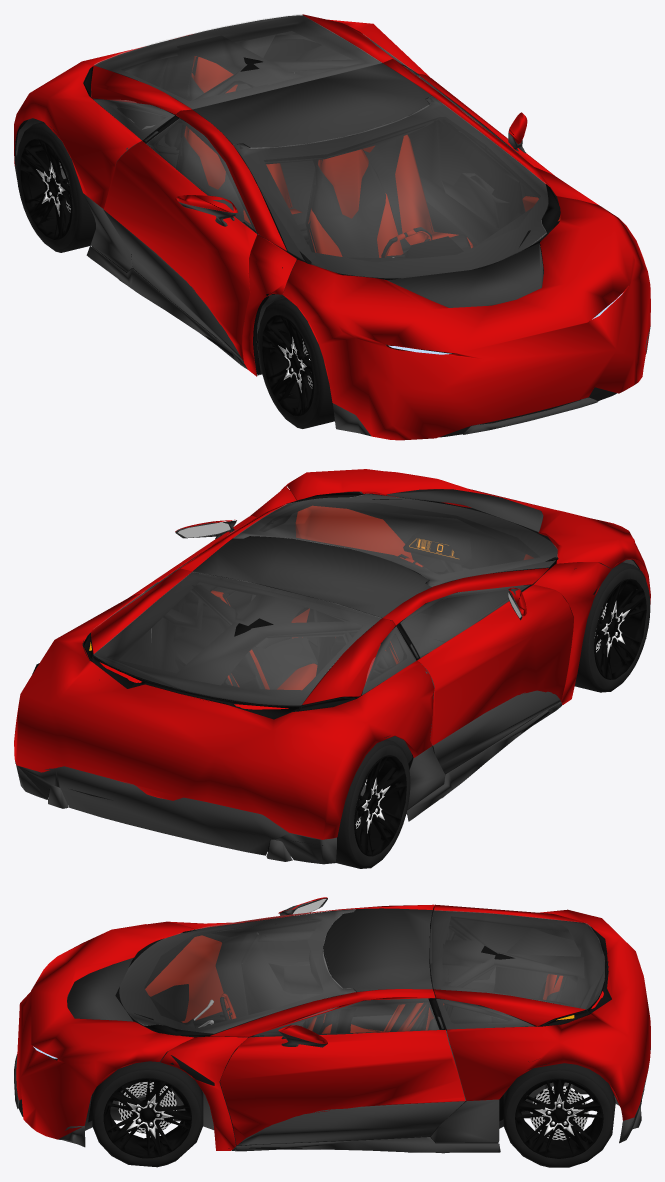
File: concept-lo.glb
3 renders of one model, top to bottom at view 1: azimuth 30°, elevation 25°; view 2: azimuth 150°, elevation 25°; view 3: azimuth 270°, elevation 25°, orthographic. The views are drawn at different scales.
Visible parts, largest first — view 1: object 11, object 2, object 3, object 10, object 4, object 5, object 7, WheelRearRRim, WheelFrontRRim, WheelFrontRTire2, WheelRearRTire2, object 6 (+2 smaller); view 2: object 11, object 2, object 10, object 3, object 4, object 5, WheelRearRRim, WheelFrontRRim, WheelFrontRTire2, WheelRearRTire2, object 7, object 8 (+3 smaller); view 3: object 11, object 2, object 10, object 3, object 4, object 5, WheelRearLRim, object 6, WheelFrontLRim, WheelFrontLTire2, WheelRearLTire2, object 1 (+4 smaller).
Part boxes in pixels (<box>): object 11: <box>14,14,650,440</box>; object 2: <box>94,14,547,277</box>; object 3: <box>16,15,616,437</box>; object 10: <box>14,63,650,436</box>; object 4: <box>14,28,525,353</box>; object 5: <box>184,56,560,351</box>; object 7: <box>179,75,470,257</box>; WheelRearRRim: <box>20,138,72,239</box>; WheelFrontRRim: <box>262,315,314,416</box>; WheelFrontRTire2: <box>258,298,334,428</box>; WheelRearRTire2: <box>16,122,95,252</box>; object 6: <box>92,170,556,373</box>; object 11: <box>14,469,650,839</box>; object 2: <box>94,494,557,705</box>; object 10: <box>15,489,646,864</box>; object 3: <box>18,490,639,845</box>; object 4: <box>15,497,538,851</box>; object 5: <box>211,492,534,690</box>; WheelRearRRim: <box>354,755,406,856</box>; WheelFrontRRim: <box>594,578,646,679</box>; WheelFrontRTire2: <box>575,562,650,692</box>; WheelRearRTire2: <box>336,739,410,868</box>; object 7: <box>252,630,444,689</box>; object 8: <box>403,531,471,565</box>; object 11: <box>16,897,650,1150</box>; object 2: <box>119,909,604,1036</box>; object 10: <box>14,898,650,1153</box>; object 3: <box>16,907,644,1149</box>; object 4: <box>115,913,617,1097</box>; object 5: <box>145,935,563,1051</box>; WheelRearLRim: <box>515,1078,603,1158</box>; object 6: <box>170,923,497,1148</box>; WheelFrontLRim: <box>103,1078,191,1158</box>; WheelFrontLTire2: <box>92,1059,203,1167</box>; WheelRearLTire2: <box>503,1063,615,1167</box>; object 1: <box>85,932,641,1130</box>.
Size of the model in its own units: 2.34 by 1.14 by 4.33.
Materials: 20 (2 with a texture image).
